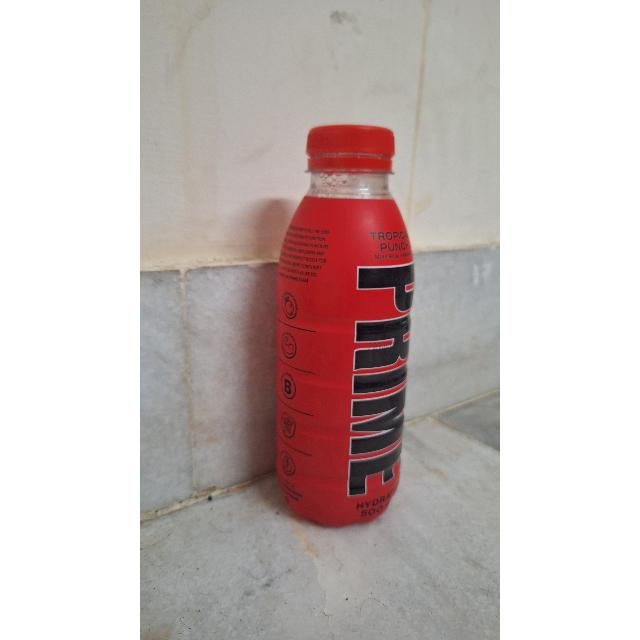Prime - Shitass: (263, 112, 423, 530)
